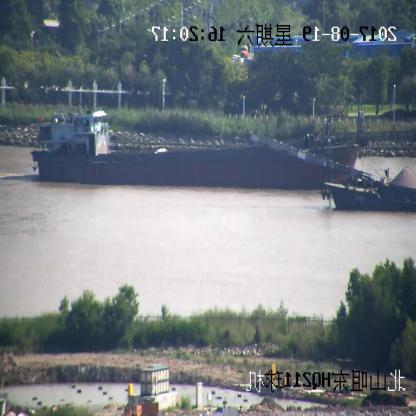Bulk Carrier: (30, 90, 397, 186)
